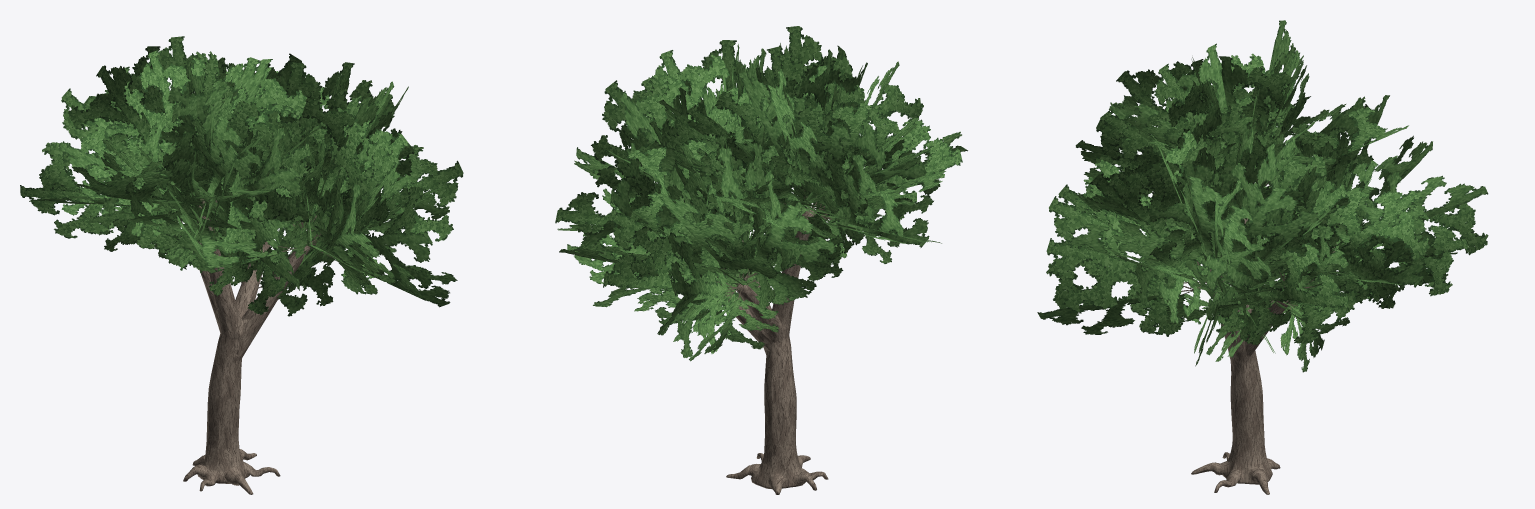
File: environment_elm3_v72.fbx
The picture shows the model from 3 angles, left to right: view 1: azimuth 30°, elevation 25°; view 2: azimuth 150°, elevation 25°; view 3: azimuth 270°, elevation 25°; orthographic projection. The views are drawn at different scales.
Parts seen in each view (by area): view 1: environment_elm3_v72_lod0; view 2: environment_elm3_v72_lod0; view 3: environment_elm3_v72_lod0.
Part boxes in pixels (x1,y1,x2,y2): environment_elm3_v72_lod0: (20,36,463,494); environment_elm3_v72_lod0: (555,26,967,494); environment_elm3_v72_lod0: (1037,20,1488,494).
Size of what is drawn, in the model's own units: 2871 by 2796 by 2917.
Materials: 2 (2 with a texture image).
